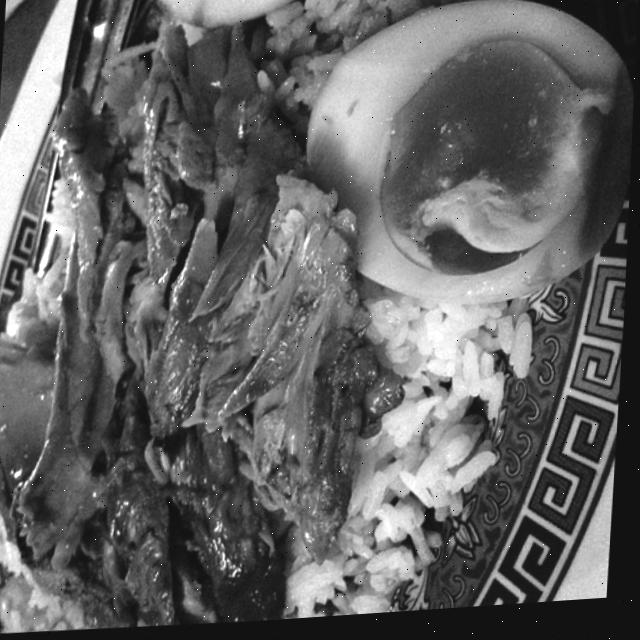猪肉菜式: (0, 22, 372, 631)
